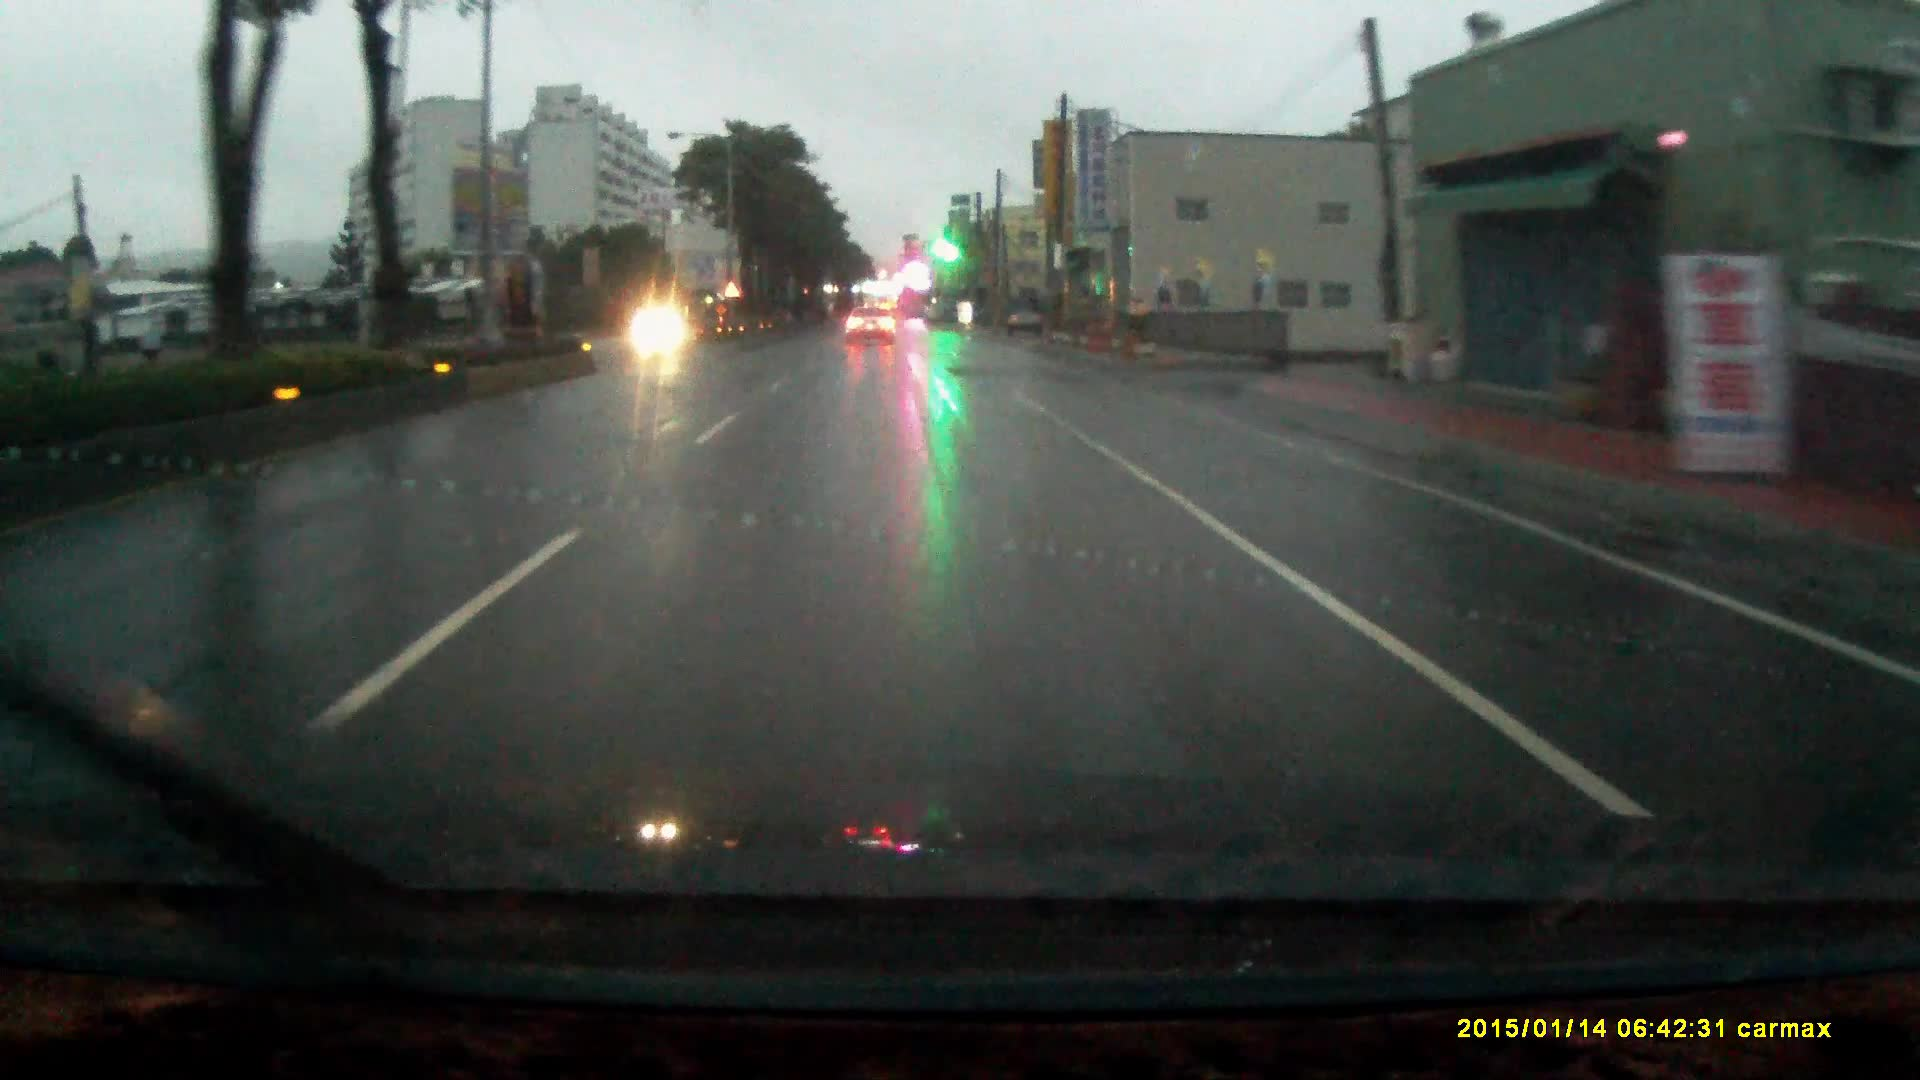vehicle: (847, 310, 899, 351), (1010, 284, 1047, 327)
